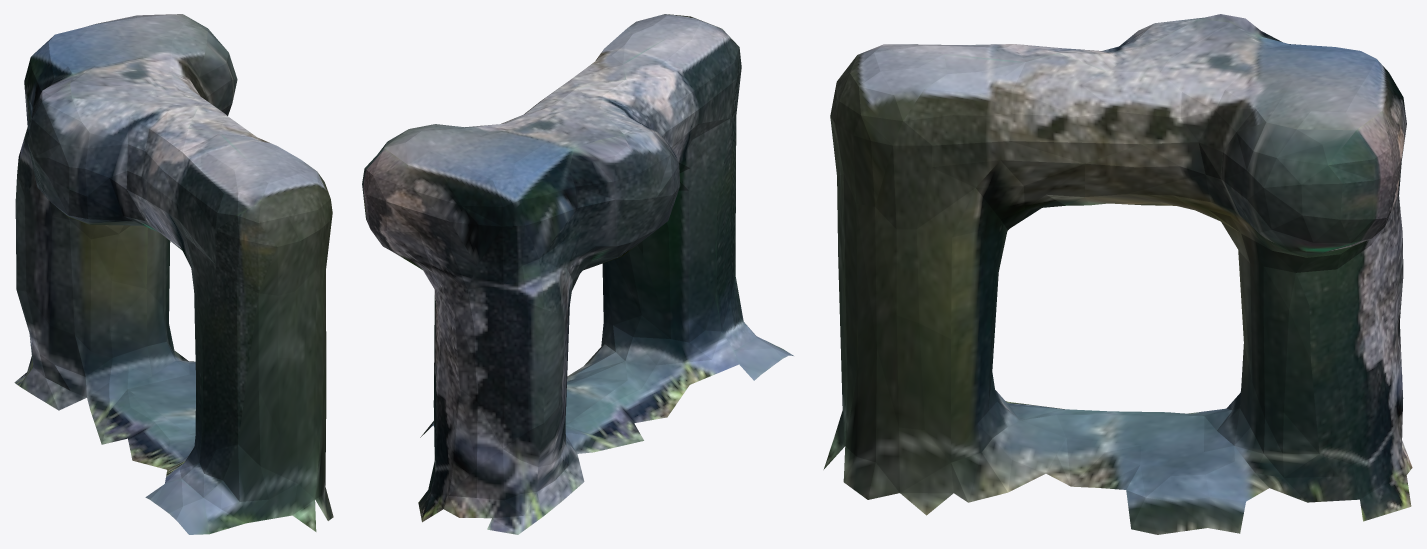
Rendered from schema_model_1_compress.glb.
3 views of the same model, side by side, from view 1: azimuth 30°, elevation 25°; view 2: azimuth 150°, elevation 25°; view 3: azimuth 270°, elevation 25° (orthographic). The views are drawn at different scales.
Visible parts, largest first — view 1: Mesh_0; view 2: Mesh_0; view 3: Mesh_0.
Part boxes in pixels (box(x1,y1,x2,y2)): Mesh_0: box(14, 14, 333, 534); Mesh_0: box(362, 14, 793, 534); Mesh_0: box(823, 14, 1412, 534).
Size of the model in its own units: 0.2598 by 0.3777 by 0.4749.
1 material, 1 textured.
